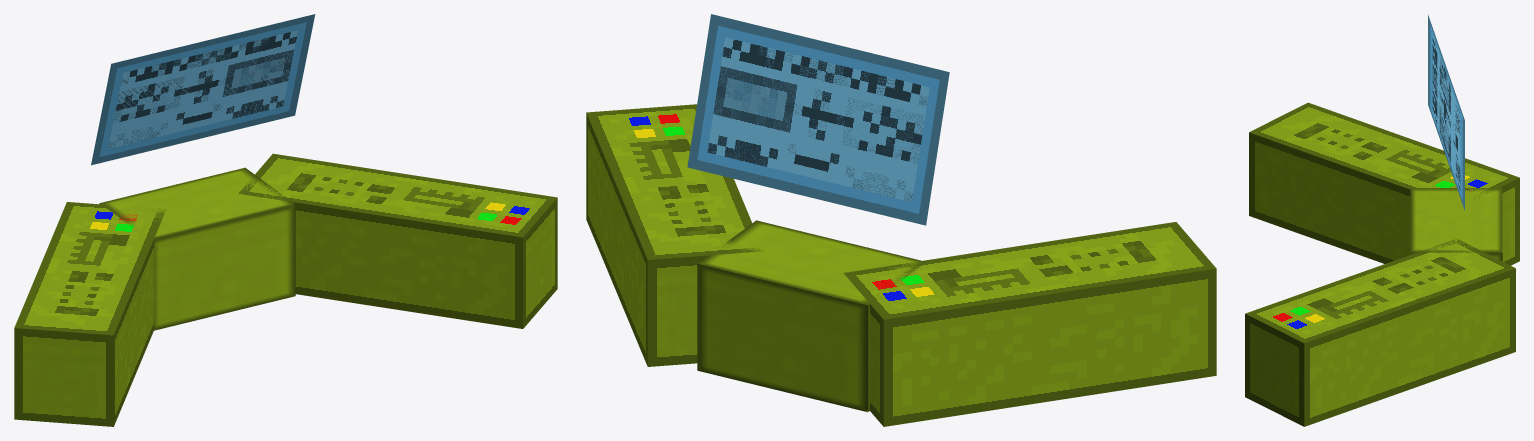
The model's file is computador.fbx.
3 views of the same model, side by side, from view 1: azimuth 30°, elevation 25°; view 2: azimuth 150°, elevation 25°; view 3: azimuth 270°, elevation 25° (orthographic). The views are drawn at different scales.
Parts seen in each view (by area): view 1: mesa_2, mesa_1, monitor pincipal, mesa; view 2: mesa_1, monitor pincipal, mesa_2, mesa; view 3: mesa_2, mesa_1, mesa, monitor pincipal.
Part boxes in pixels (box(x1,y1,x2,y2)): mesa_2: box(238, 153, 557, 328); mesa_1: box(14, 202, 165, 426); monitor pincipal: box(91, 14, 315, 165); mesa: box(99, 167, 295, 330); mesa_1: box(843, 222, 1216, 426); monitor pincipal: box(687, 14, 949, 225); mesa_2: box(586, 104, 763, 366); mesa: box(697, 220, 926, 412); mesa_2: box(1245, 239, 1515, 426); mesa_1: box(1249, 102, 1519, 265); mesa: box(1410, 188, 1502, 261); monitor pincipal: box(1428, 15, 1464, 210).
Size of the model in its own units: 116 by 54.88 by 55.91.
3 materials, 3 textured.
